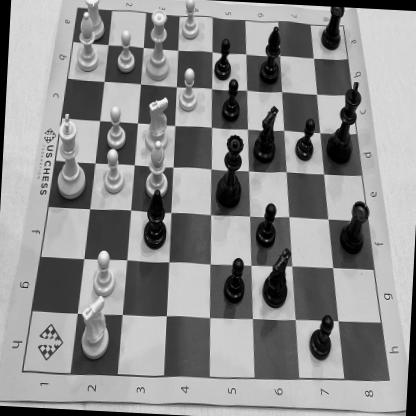black-bishop: (260, 242, 293, 314), (138, 186, 172, 251), (255, 21, 287, 88), (251, 102, 280, 166)
black-king: (322, 74, 363, 168)
black-pawn: (306, 309, 336, 364), (219, 254, 248, 307), (251, 200, 280, 252), (292, 113, 318, 164), (209, 36, 235, 83), (219, 75, 242, 125)
black-queen: (214, 130, 247, 212)
black-rook: (336, 195, 372, 256), (318, 5, 346, 53)
white-bishop: (74, 11, 102, 74), (144, 139, 170, 199)
white-king: (51, 110, 93, 204)
white-knight: (77, 295, 115, 363), (142, 93, 172, 154)
white-pawn: (90, 246, 118, 300), (101, 146, 128, 198), (104, 102, 130, 152), (176, 65, 200, 116), (113, 28, 138, 76), (179, 0, 201, 45)
white-queen: (141, 3, 176, 84)
white-rook: (80, 0, 108, 41)
